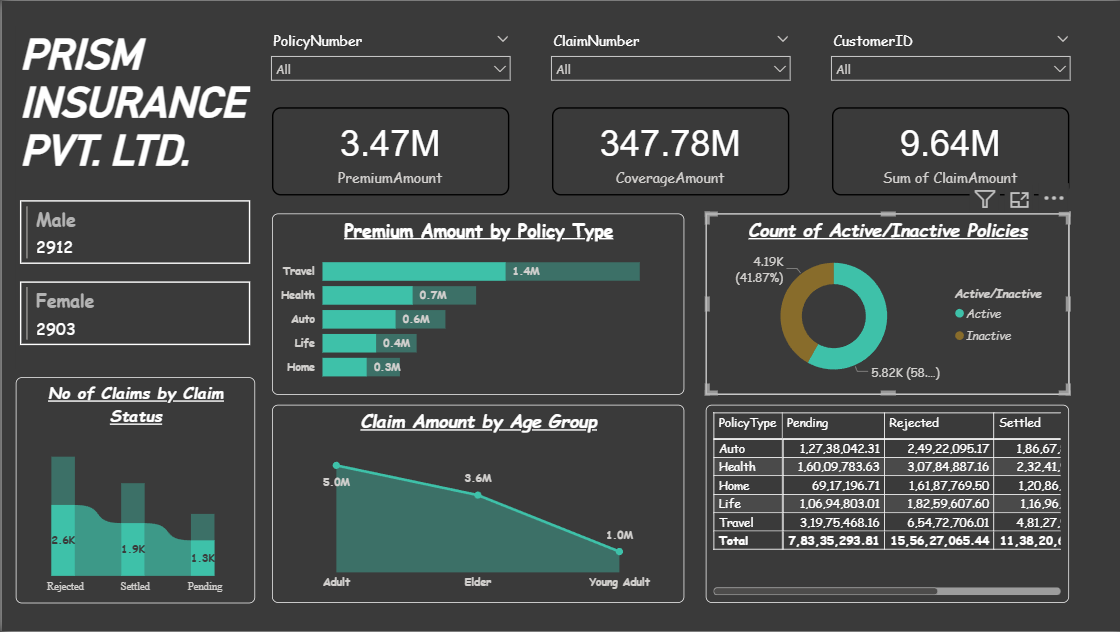

Layout of this report page (visuals, bound fields, positions):
{"tool":"powerbi","page":{"name":"Page 1","canvas":[1280,720],"ordinal":0},"visuals":[{"type":"slicer","fields":{"Values":["InsuranceData.PolicyNumber"]},"box":[296.5,27.9,294.2,82.6],"z":0},{"type":"slicer","fields":{"Values":["InsuranceData.ClaimNumber"]},"box":[617.4,27.9,294.2,82.6],"z":1},{"type":"slicer","fields":{"Values":["InsuranceData.CustomerID"]},"box":[937.2,27.9,294.2,82.6],"z":2},{"type":"textbox","box":[15.1,27.9,273.3,195.3],"z":3},{"type":"card","fields":{"Values":["Sum(InsuranceData.PremiumAmount)"]},"box":[308.1,122.1,270.9,101.2],"z":4},{"type":"card","fields":{"Values":["Sum(InsuranceData.CoverageAmount)"]},"box":[629.1,122.1,270.9,101.2],"z":5},{"type":"card","fields":{"Values":["Sum(InsuranceData.ClaimAmount)"]},"box":[948.8,122.1,270.9,101.2],"z":6},{"type":"multiRowCard","fields":{"Values":["CountNonNull(InsuranceData.Gender)","InsuranceData.Gender"]},"box":[15.1,223.3,273.3,197.7],"z":7},{"type":"ribbonChart","title":"No of Claims by Claim Status","fields":{"Category":["InsuranceData.ClaimStatus"],"Y":["CountNonNull(InsuranceData.ClaimStatus)"]},"box":[15.1,430.2,273.3,258.1],"z":8},{"type":"barChart","title":"Premium Amount by Policy Type","fields":{"Category":["InsuranceData.PolicyType"],"Y":["Sum(InsuranceData.PremiumAmount)"]},"box":[308.1,243,470.9,207],"z":9},{"type":"lineChart","title":"Claim Amount by Age Group","fields":{"Category":["InsuranceData.Age Group"],"Y":["Sum(InsuranceData.ClaimAmount)"]},"box":[308.1,461.6,470.9,226.7],"z":10},{"type":"donutChart","title":"Count of Active/Inactive Policies","fields":{"Category":["InsuranceData.Active/Inactive"],"Y":["CountNonNull(InsuranceData.Active/Inactive)"]},"box":[804.7,243,415.1,207],"z":11},{"type":"pivotTable","fields":{"Values":["Sum(InsuranceData.CoverageAmount)"],"Rows":["InsuranceData.PolicyType"],"Columns":["InsuranceData.ClaimStatus"]},"box":[804.7,461.6,415.1,226.7],"z":12}]}

Visuals, with their boxes in screenshot pixels (x1, y1, x2, y2), scaled from the page's 1280x720 canvas onto the 1120x632 screenshot:
slicer - InsuranceData.PolicyNumber: <box>259,24,517,97</box>
slicer - InsuranceData.ClaimNumber: <box>540,24,798,97</box>
slicer - InsuranceData.CustomerID: <box>820,24,1077,97</box>
textbox: <box>13,24,252,196</box>
card - Sum(InsuranceData.PremiumAmount): <box>270,107,507,196</box>
card - Sum(InsuranceData.CoverageAmount): <box>550,107,788,196</box>
card - Sum(InsuranceData.ClaimAmount): <box>830,107,1067,196</box>
multiRowCard - CountNonNull(InsuranceData.Gender) x InsuranceData.Gender: <box>13,196,252,370</box>
"No of Claims by Claim Status" ribbonChart: <box>13,378,252,604</box>
"Premium Amount by Policy Type" barChart: <box>270,213,682,395</box>
"Claim Amount by Age Group" lineChart: <box>270,405,682,604</box>
"Count of Active/Inactive Policies" donutChart: <box>704,213,1067,395</box>
pivotTable - Sum(InsuranceData.CoverageAmount) x InsuranceData.PolicyType: <box>704,405,1067,604</box>
